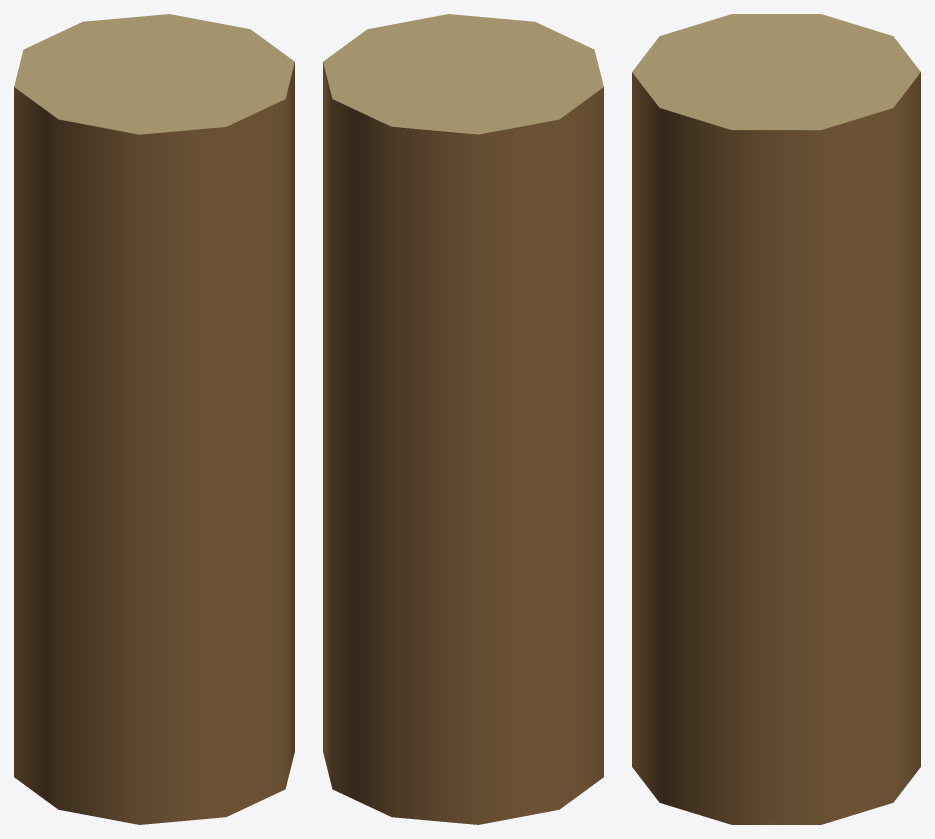
File: log.glb
3 renders of one model, left to right at view 1: azimuth 30°, elevation 25°; view 2: azimuth 150°, elevation 25°; view 3: azimuth 270°, elevation 25°, orthographic.
Parts seen in each view (by area): view 1: log; view 2: log; view 3: log.
Boxes of the visible parts, bbox=[...] form: log: bbox=[14, 14, 294, 824]; log: bbox=[323, 14, 603, 824]; log: bbox=[632, 14, 920, 824].
Bounding box in the file's own units: 0.6814 × 1.9 × 0.7165.
1 material, 1 textured.
